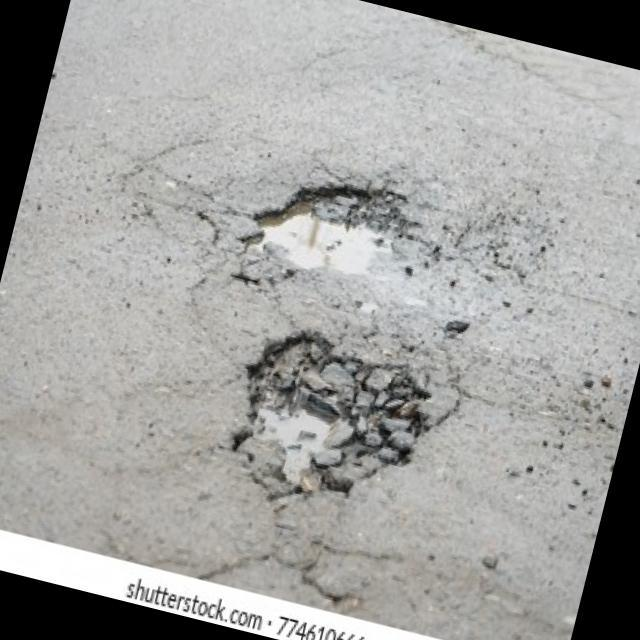Pothole: (206, 307, 446, 538), (238, 156, 420, 296)
